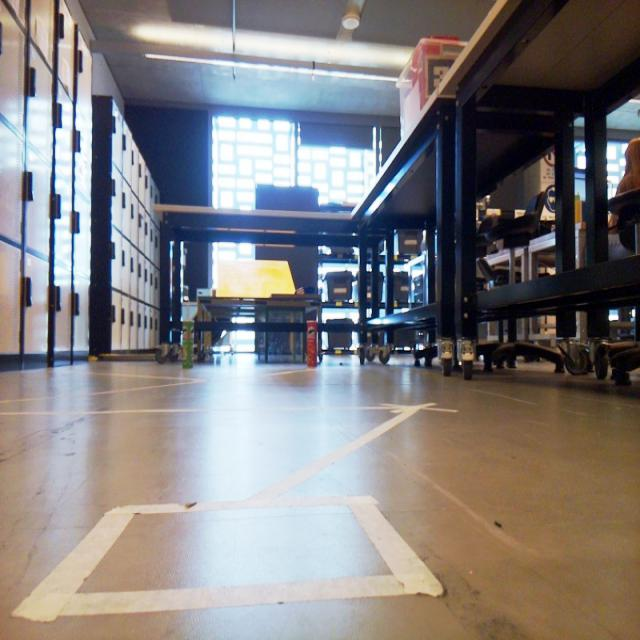greenpringles: (177, 317, 202, 369)
redpringles: (298, 308, 322, 370)
